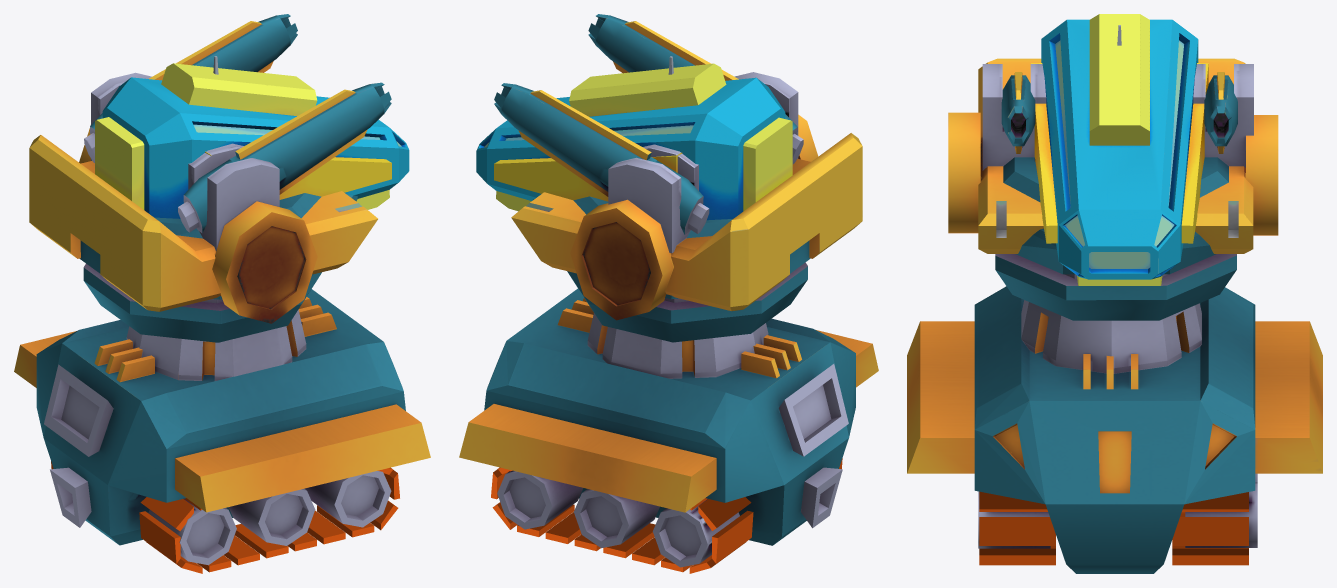
File: Player_Idle_1_Upgrade3.obj
The picture shows the model from 3 angles, left to right: view 1: azimuth 30°, elevation 25°; view 2: azimuth 150°, elevation 25°; view 3: azimuth 270°, elevation 25°; orthographic projection. The views are drawn at different scales.
Parts seen in each view (by area): view 1: Object008, Object014, Box009, Box017; view 2: Object008, Object014, Box009, Box016; view 3: Object008, Box017, Box016, Object014, Box009.
Part boxes in pixels (x1,y1,x2,y2): Object008: (14,63,430,545); Object014: (84,14,391,233); Box009: (148,471,391,565); Box017: (139,467,399,573); Object008: (459,63,878,545); Object014: (494,14,803,234); Box009: (497,470,739,567); Box016: (491,467,753,573); Object008: (907,14,1322,573); Box017: (979,491,1055,565); Box016: (1172,492,1248,565); Object014: (1001,72,1237,153); Box009: (978,473,1257,548).
Size of the model in its own units: 65.77 by 85.5 by 66.14.
4 materials, 2 textured.
